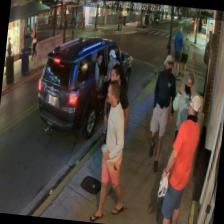person: (90, 79, 137, 224), (156, 91, 204, 224), (98, 62, 134, 177), (146, 53, 180, 173), (166, 70, 200, 170), (170, 25, 186, 78), (92, 54, 108, 95)
